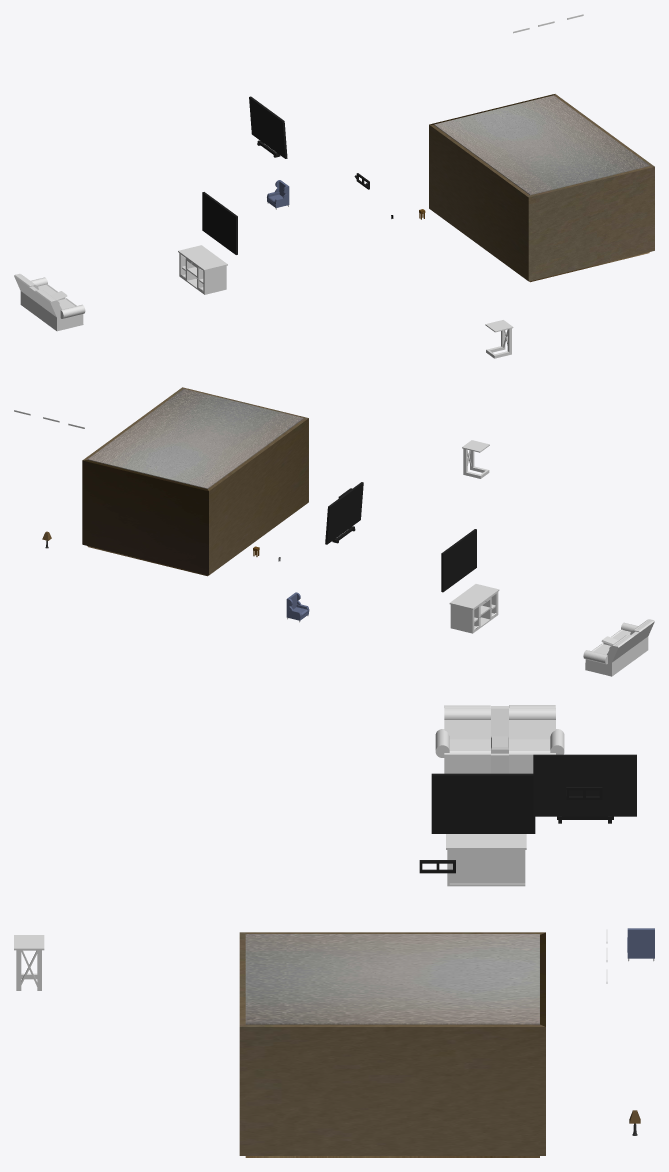
Rendered from iinterior.fbx.
3 views of the same model, one above another, from view 1: azimuth 30°, elevation 25°; view 2: azimuth 150°, elevation 25°; view 3: azimuth 270°, elevation 25° (orthographic). The views are drawn at different scales.
Visible parts, largest first — view 1: Walls, Ceiling, OGCouch, OGDresser, OGTVWithSpeaker, OGTV, OGSideTable; view 2: Walls, Ceiling, OGCouch, OGDresser, OGTVWithSpeaker, OGTV, OGSideTable, OGChair; view 3: Walls, Ceiling, OGCouch, OGTVWithSpeaker, OGTV, OGDresser, OGSideTable, OGChair.
Boxes of the visible parts, box(x1,y1,x2,y2) form: Walls: box(429, 94, 654, 281); Ceiling: box(434, 95, 649, 195); OGCouch: box(14, 273, 85, 331); OGDresser: box(178, 245, 227, 294); OGTVWithSpeaker: box(249, 96, 287, 158); OGTV: box(202, 192, 237, 254); OGSideTable: box(485, 320, 513, 358); Walls: box(82, 387, 308, 575); Ceiling: box(87, 389, 303, 488); OGCouch: box(583, 619, 654, 676); OGDresser: box(449, 584, 499, 633); OGTVWithSpeaker: box(325, 482, 363, 544); OGTV: box(441, 529, 476, 592); OGSideTable: box(462, 440, 489, 478); OGChair: box(286, 592, 309, 622); Walls: box(239, 932, 545, 1155); Ceiling: box(245, 934, 539, 1024); OGCouch: box(435, 705, 564, 773); OGTVWithSpeaker: box(533, 754, 636, 823); OGTV: box(431, 773, 535, 833); OGDresser: box(446, 834, 526, 886); OGSideTable: box(14, 935, 44, 990); OGChair: box(627, 928, 654, 961).
Bounding box in the file's own units: 8821 × 2014 × 5443.
Materials: 41 (20 with a texture image).
